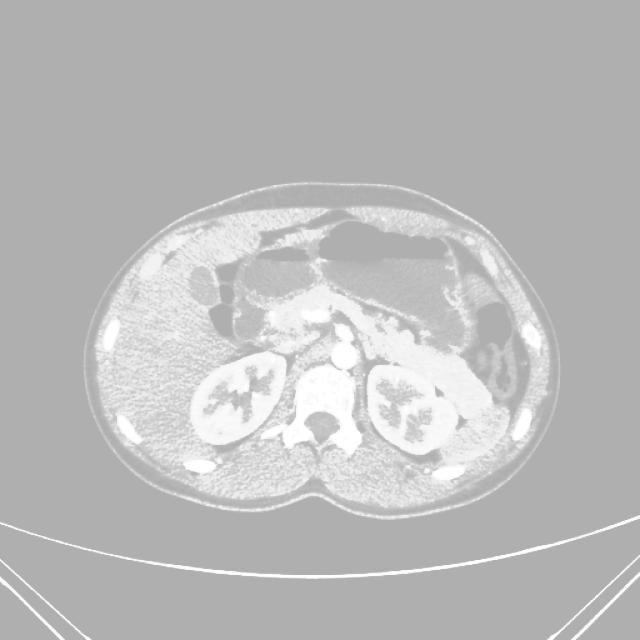NORMAL: (41, 159, 581, 551)
